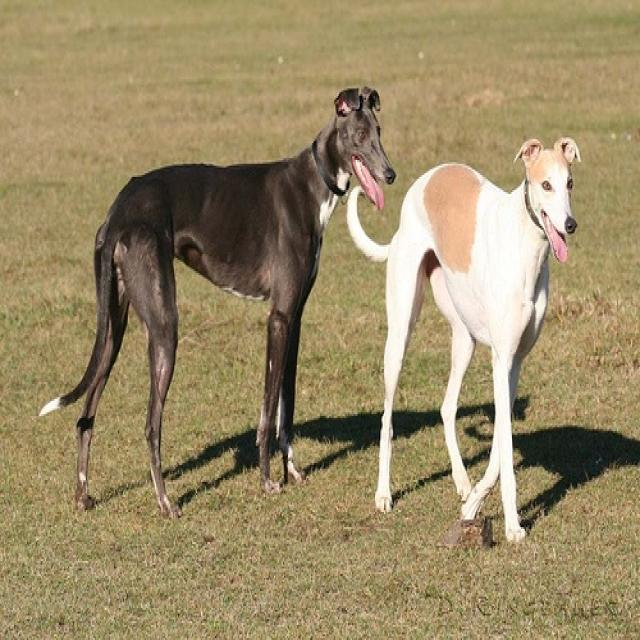dog: (32, 79, 402, 518), (347, 130, 595, 544)
